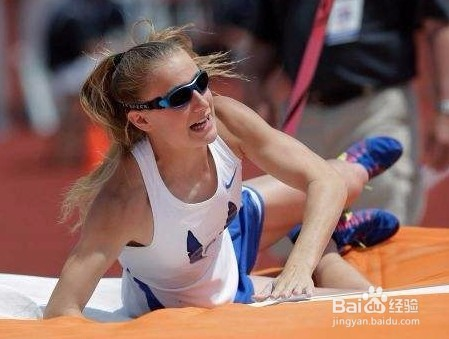fall: (16, 13, 427, 326)
